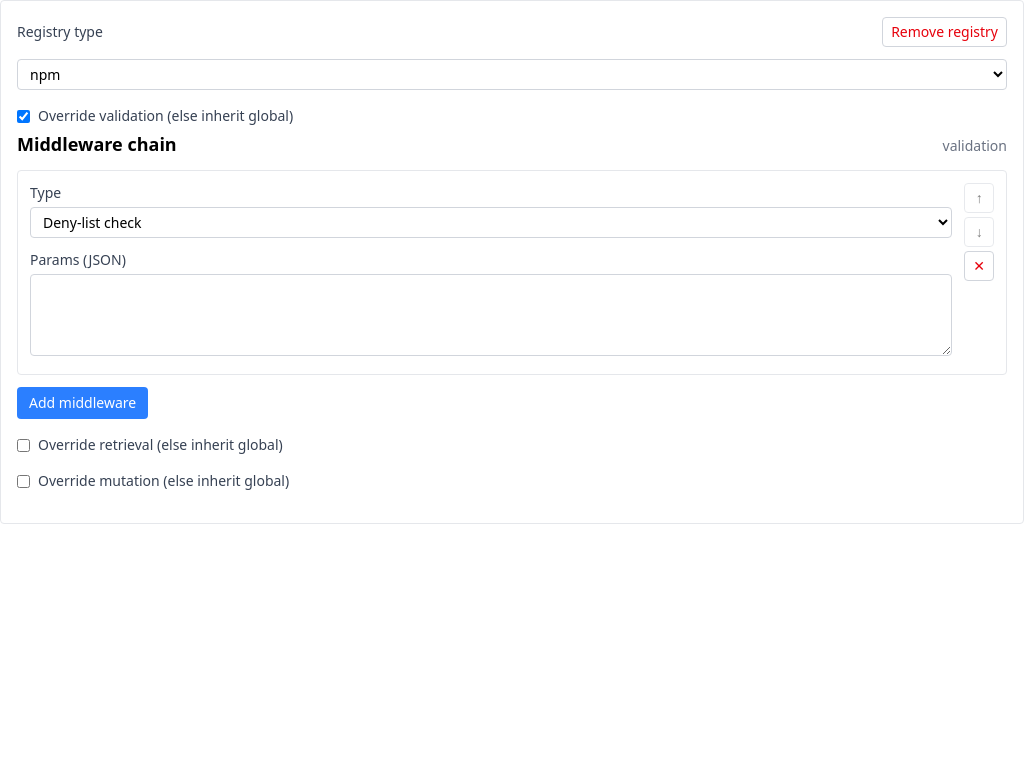
Test: RegistryConfigEditor › override mode: re-checking restores the stashed draft
Click the checkbox with test id "override-validation": (24,116) [17,110,30,122]
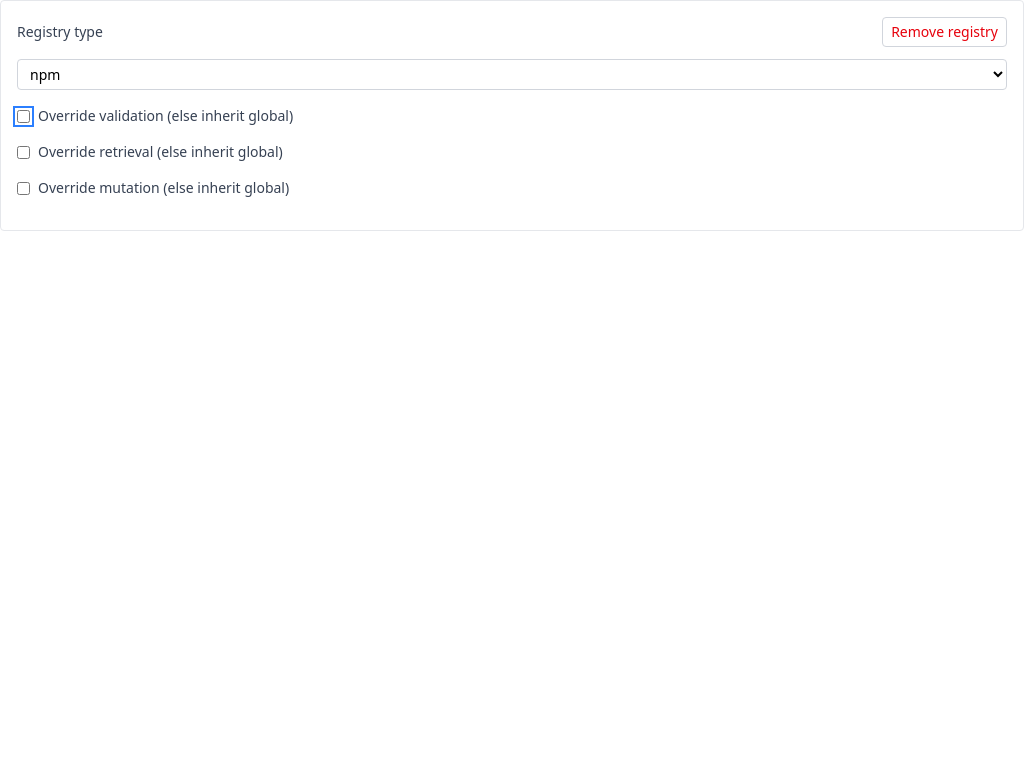
Now the checkbox with test id "override-validation" is not checked
Now the element with test id "middleware-chain-editor" is gone
Click the checkbox with test id "override-validation": (24,116) [17,110,30,122]
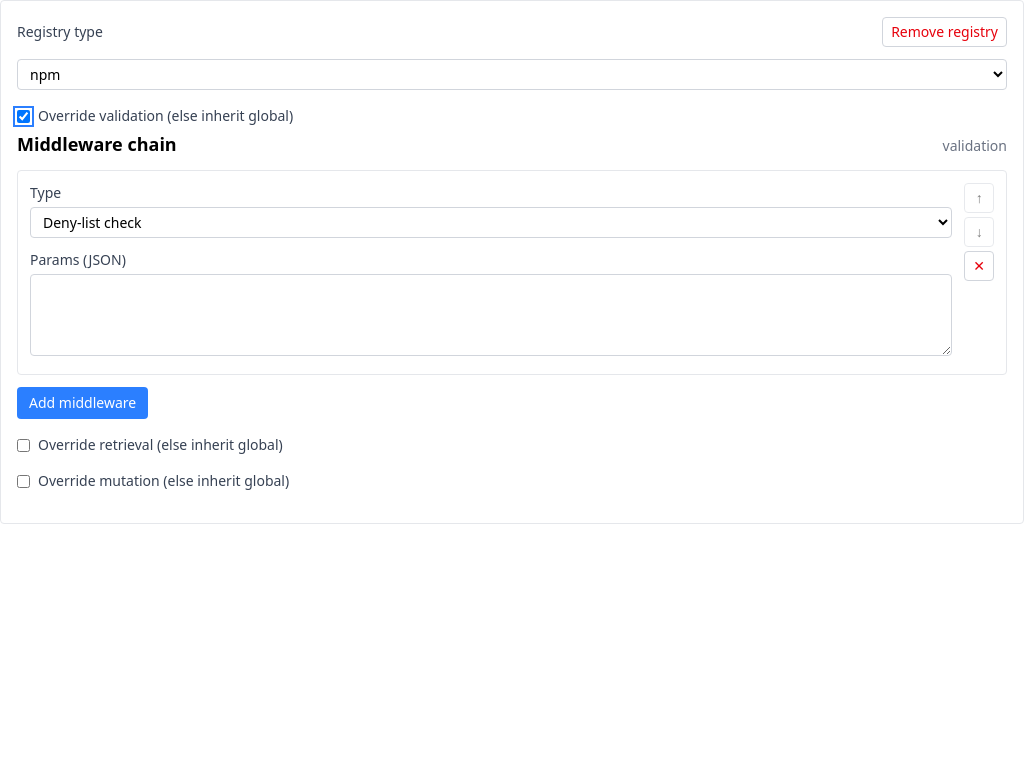
Now the checkbox with test id "override-validation" is checked, box [17,110,30,122]
Now the dropdown labelled "Type" shows "Deny-list check", box [30,207,952,238]
